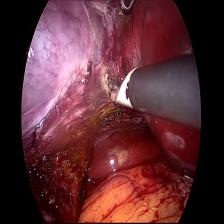Grasper: (117, 0, 139, 18)
Hook: (104, 62, 144, 112)
